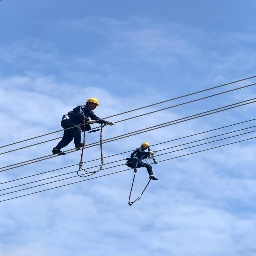helmet: (85, 98, 101, 108)
person: (51, 97, 115, 156), (126, 141, 163, 183)
